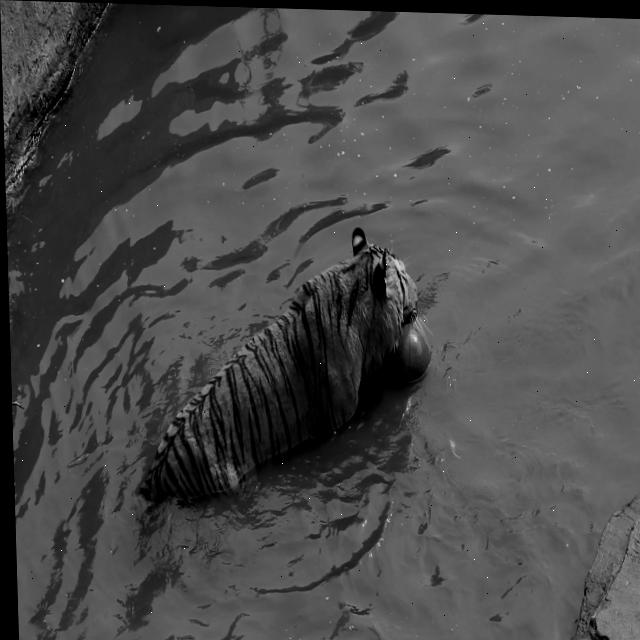Tiger: (124, 219, 425, 525)
